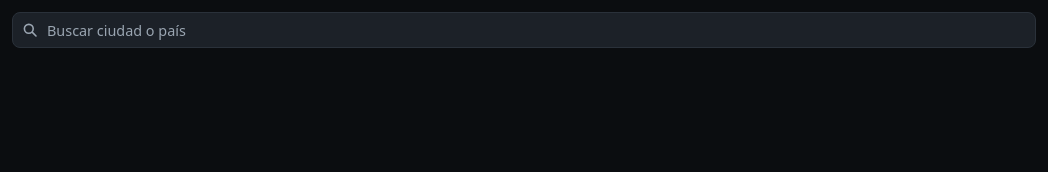
Test: PlaceSearch › avisa si la búsqueda falla
The width and height of the screenshot is (1048, 172).
Type "Cali" into the dropdown labelled "Buscar ciudad o país" at (524, 30), box [12,12,1036,48]
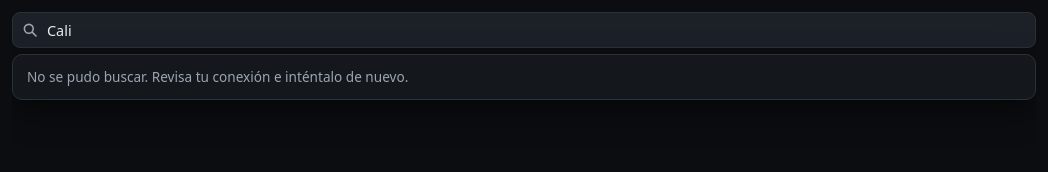
Expected: the message shows "No se pudo buscar", [27,67,408,86]
